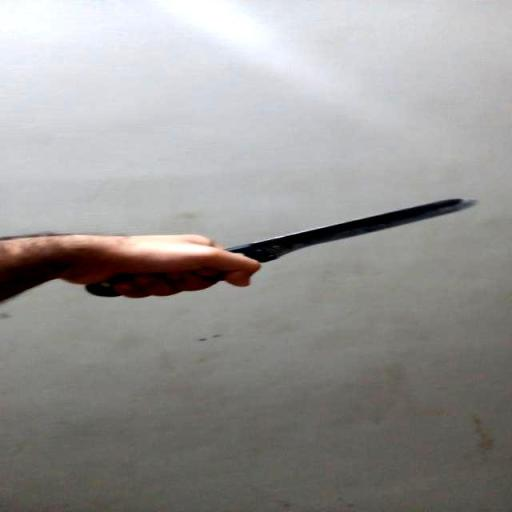knife: (85, 198, 481, 298)
